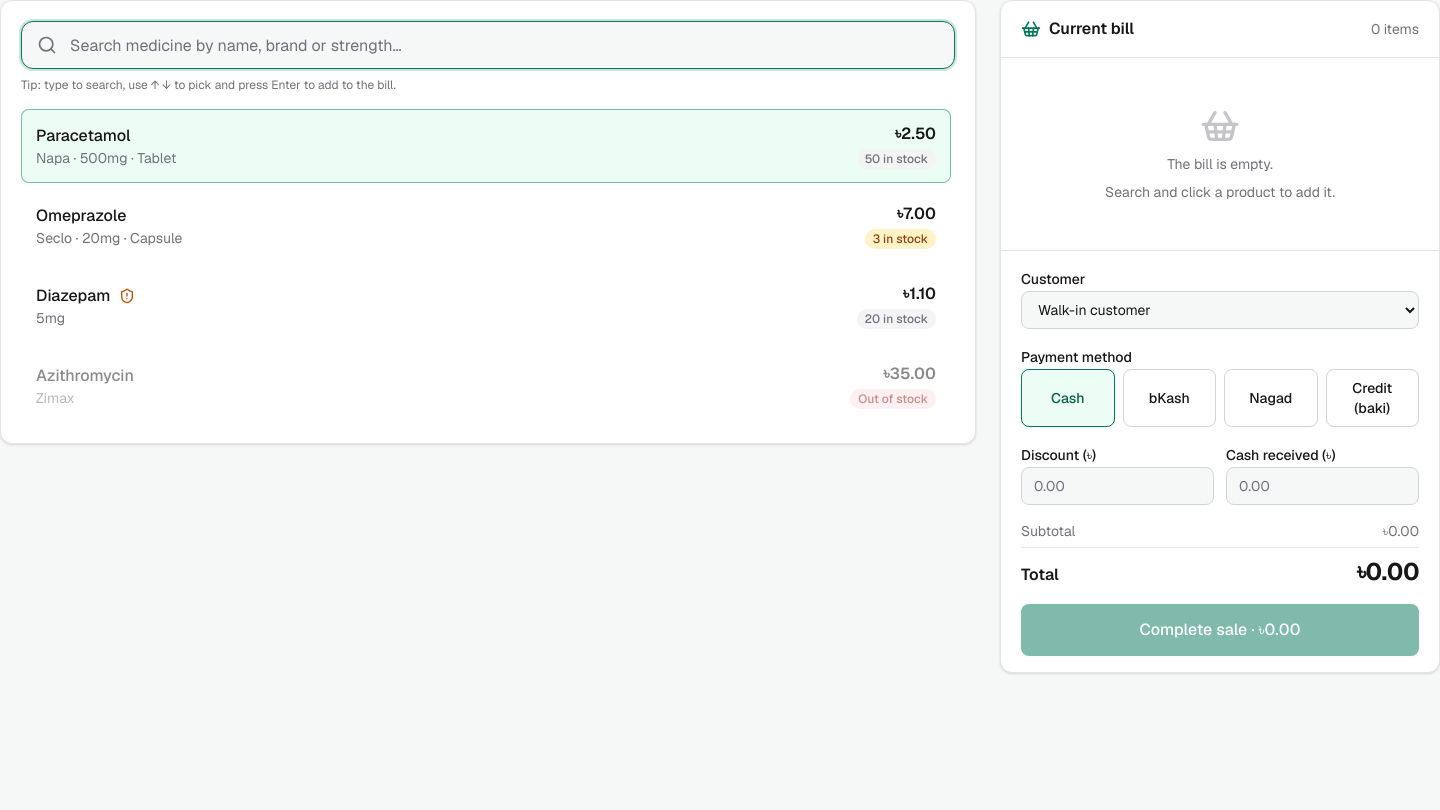
it: PointOfSale › decreasing from 1 removes the line
Click the button "Paracetamol Napa · 500mg · Tablet ৳2.50 50 in stock" at (83, 136), box [21, 109, 951, 183]
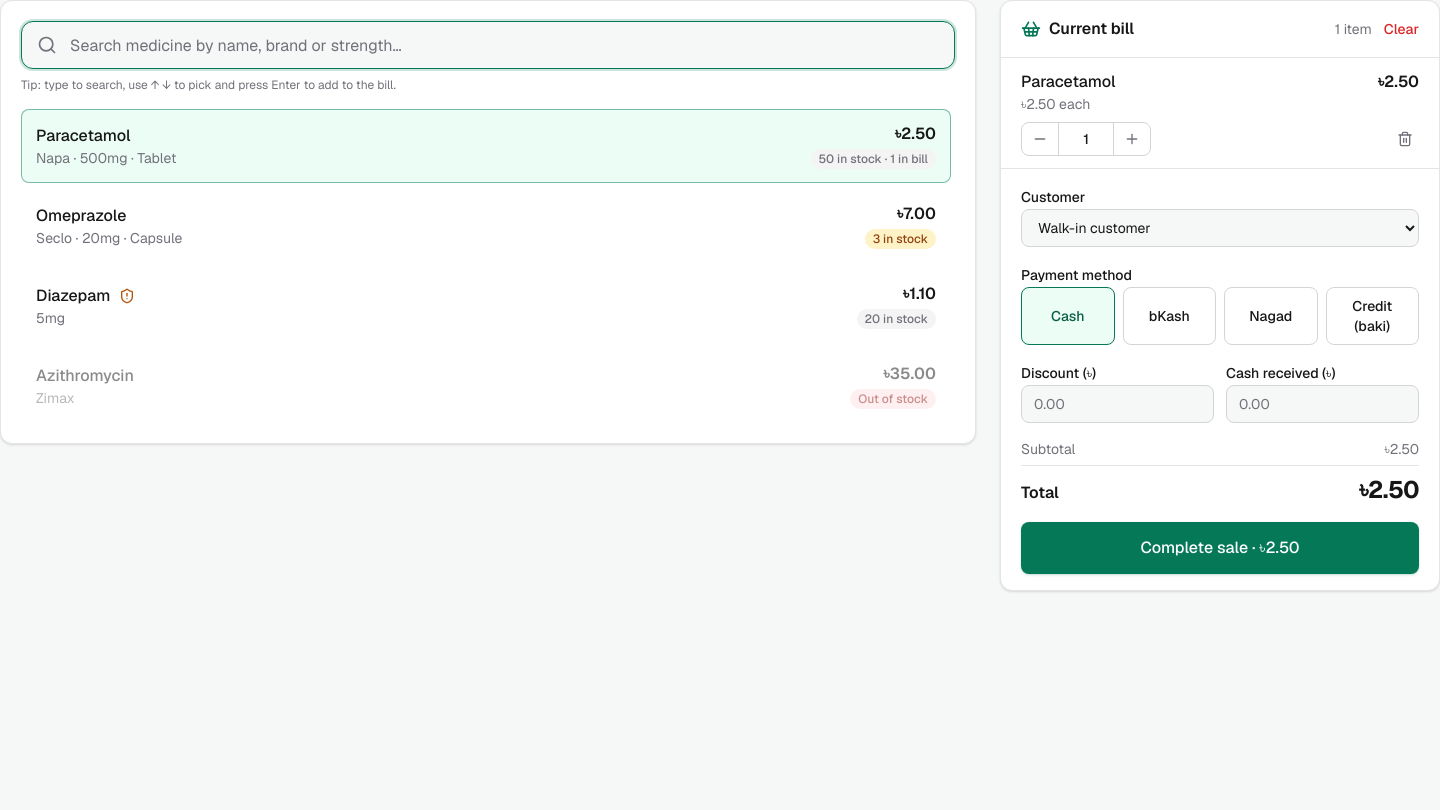
Click the button named "Decrease quantity" at (1040, 139), box [1022, 125, 1058, 153]
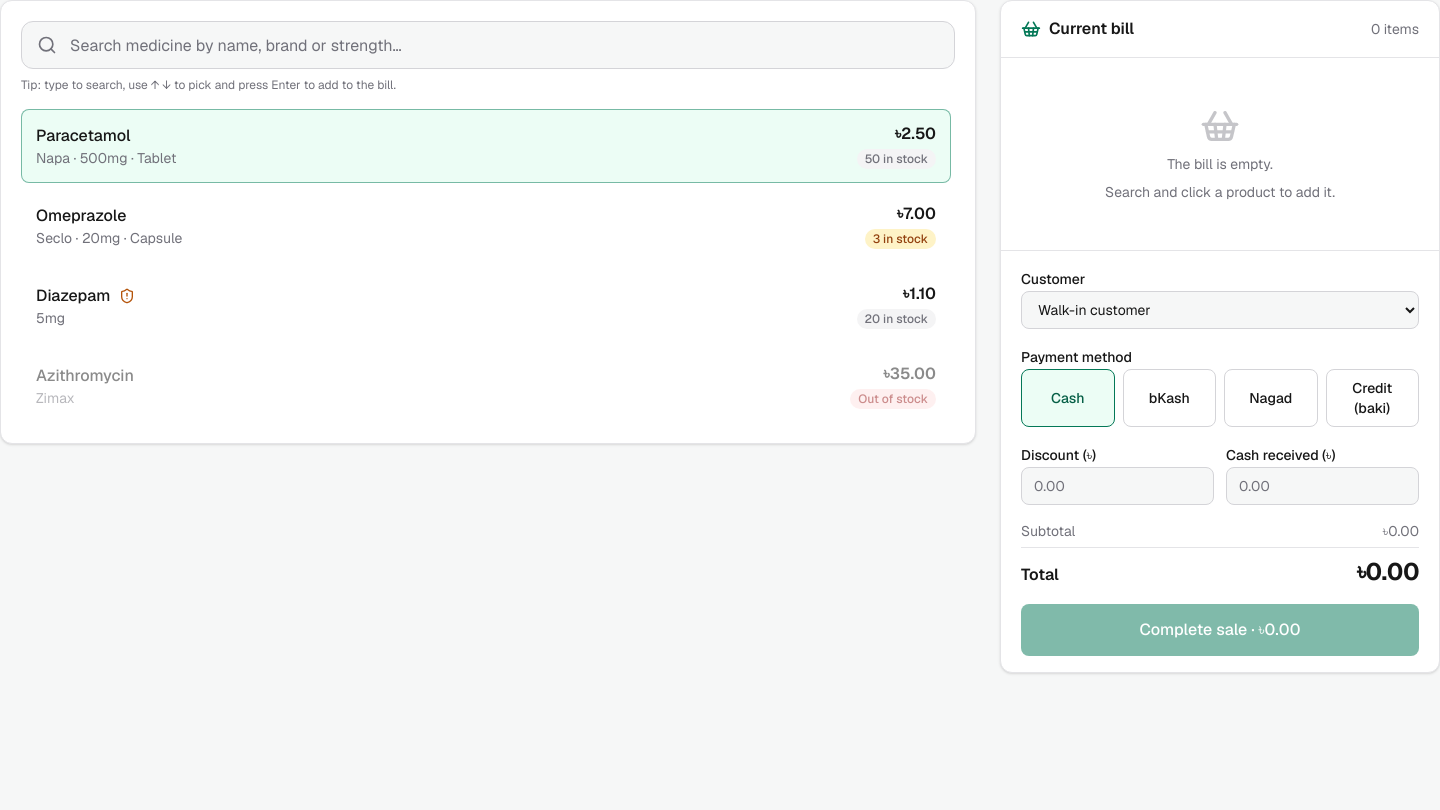
expect the text "The bill is empty." is shown: met, box [1167, 154, 1273, 174]
